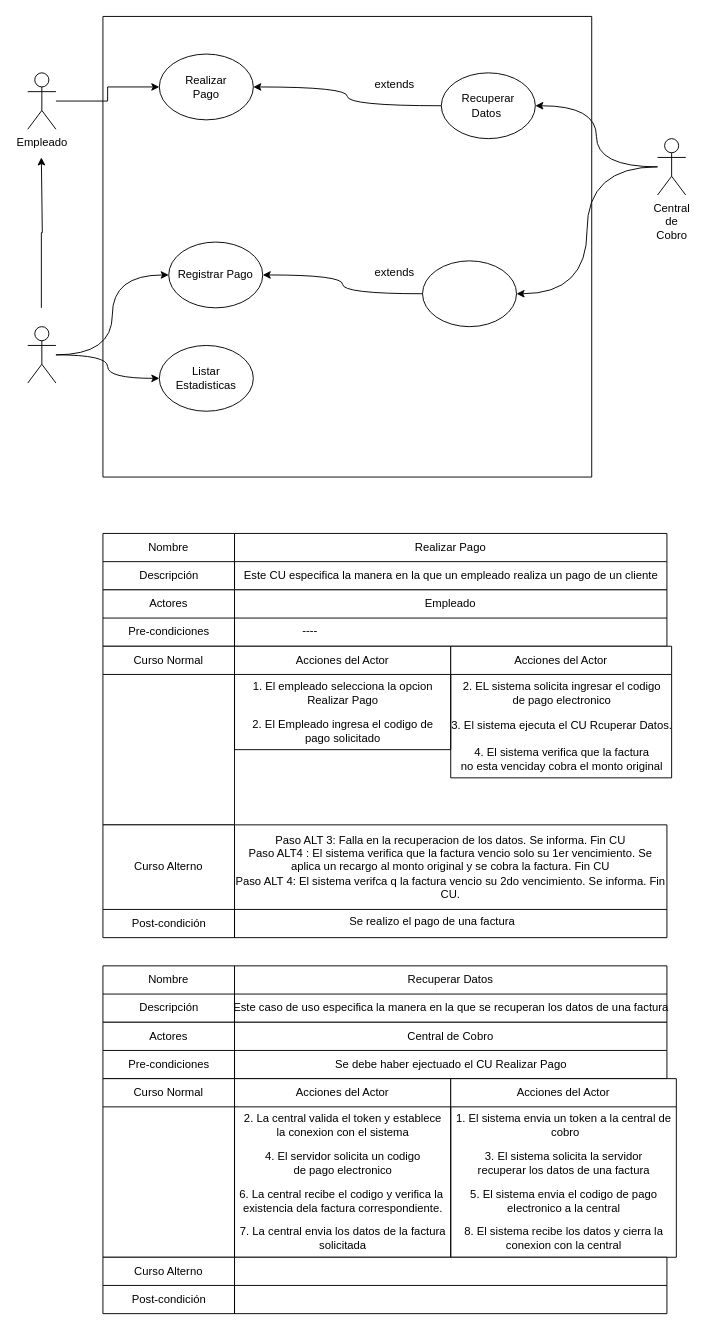
This 706x1330 diagram has some shape labels left out. Here are the shapes that lost their labels. From the top down, the centre of each, then its label:
the point at 469,293: Enviar Cobros
the point at 41,354: Gerente
